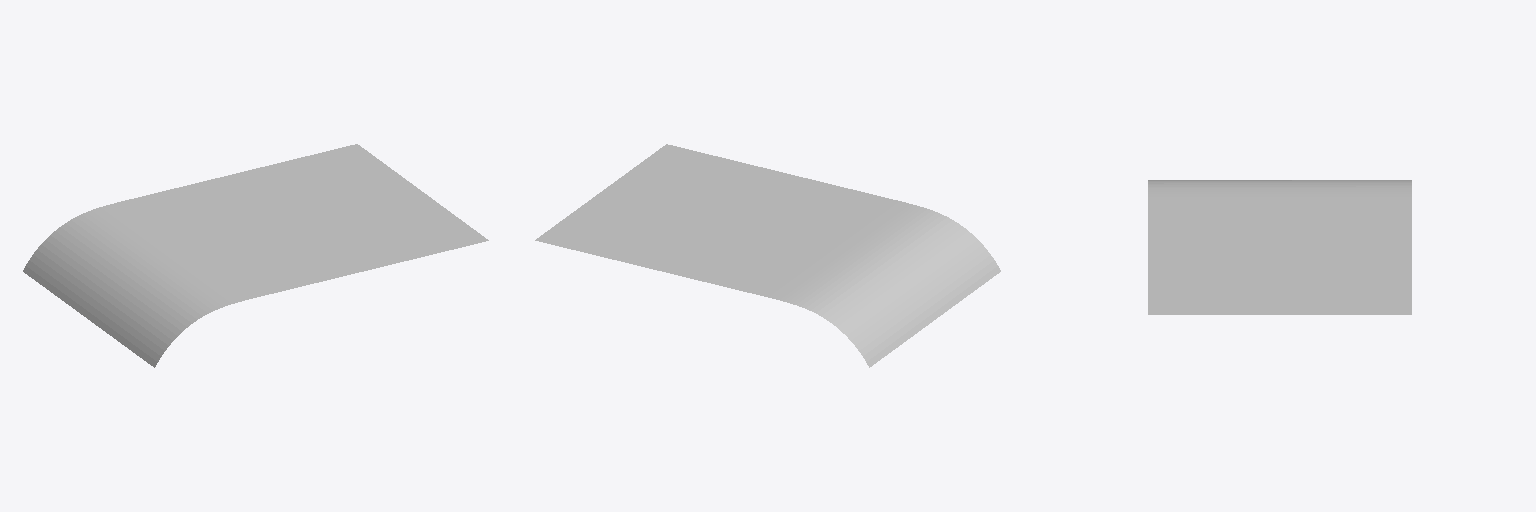
The model's file is CurvePaper_000062.obj.
3 views of the same model, side by side, from view 1: azimuth 30°, elevation 25°; view 2: azimuth 150°, elevation 25°; view 3: azimuth 270°, elevation 25° (orthographic).
Parts seen in each view (by area): view 1: Plane; view 2: Plane; view 3: Plane.
Boxes of the visible parts, x1=… form: Plane: x1=23, y1=144, x2=488, y2=367; Plane: x1=535, y1=144, x2=1000, y2=367; Plane: x1=1148, y1=180, x2=1411, y2=314.
Size of the model in its own units: 3.31 by 0.4348 by 2.26.